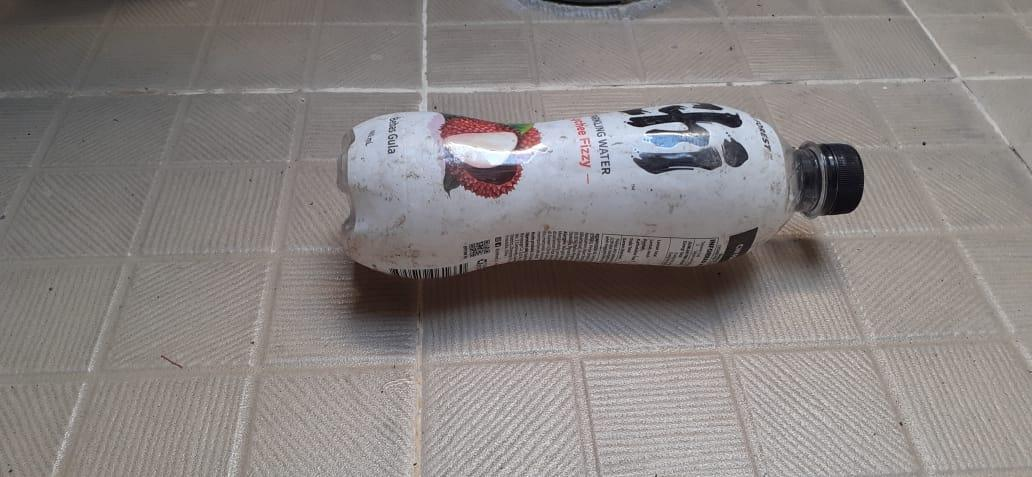Plastik: (334, 100, 865, 280)
